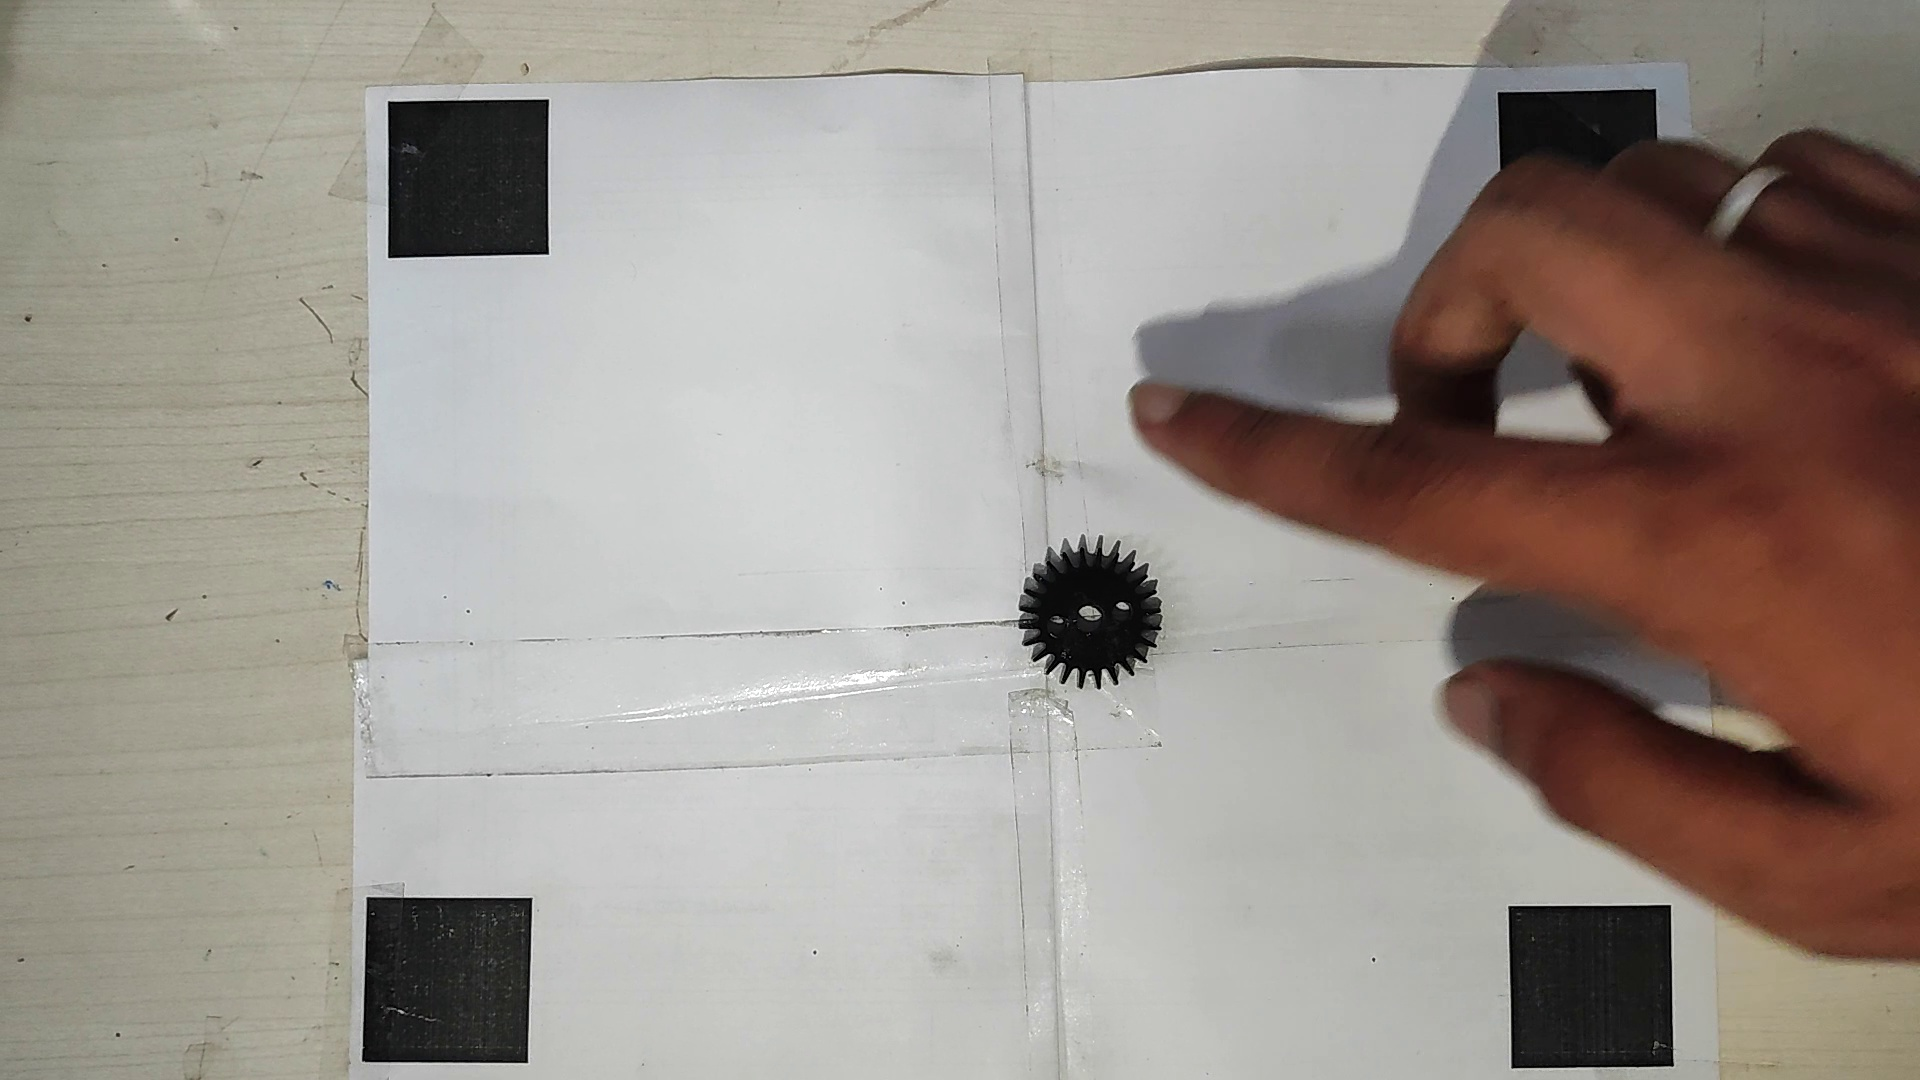Gear: (1014, 537, 1164, 684)
